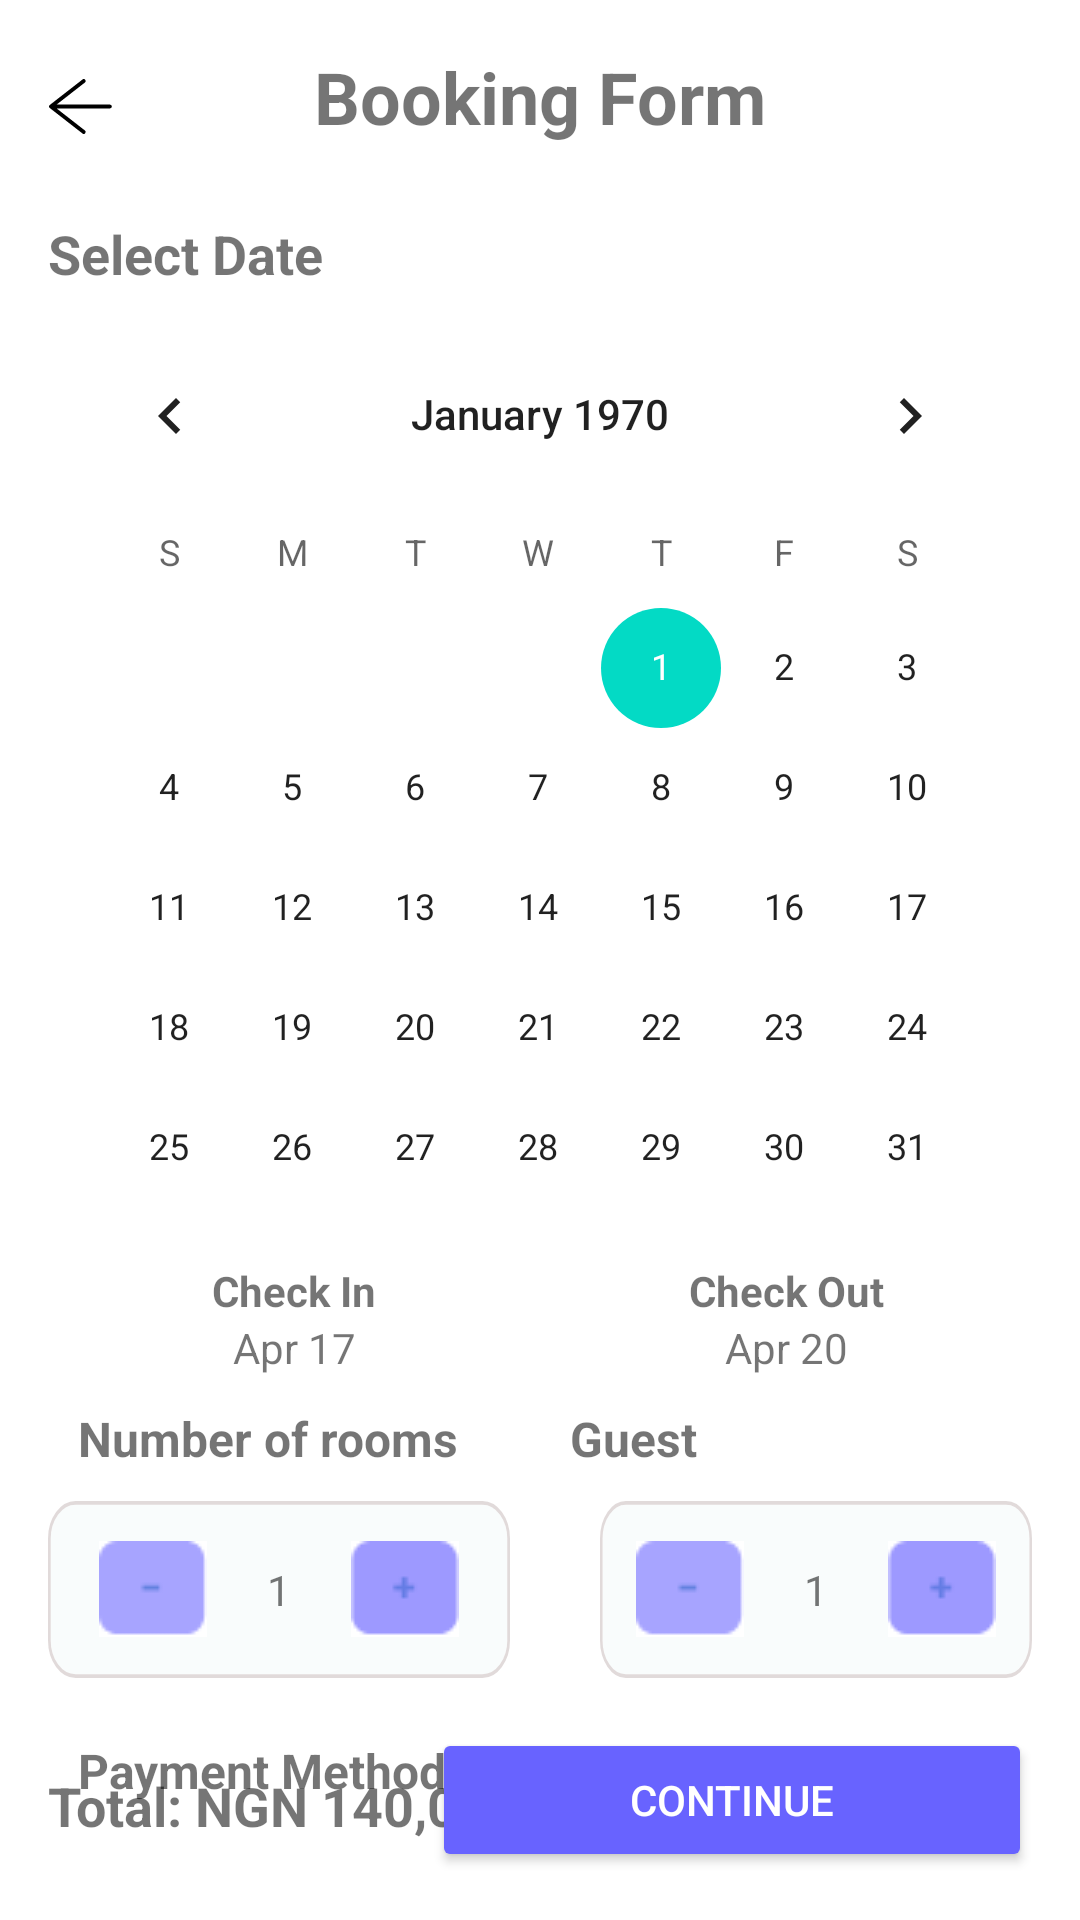

Named icons in this screenshot (1080 x 1920) and their centers, (x,y):
arrow: (80,106)
minus: (152,1588), (689,1588)
plus: (405,1588), (942,1588)
